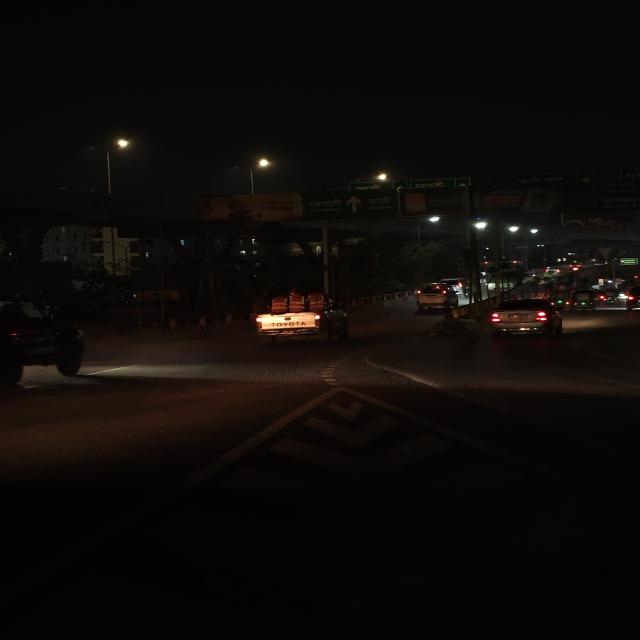car: (0, 293, 93, 391), (487, 297, 566, 339), (412, 282, 460, 311)
cng: (571, 288, 598, 310)
pickup_van: (245, 289, 355, 345)
